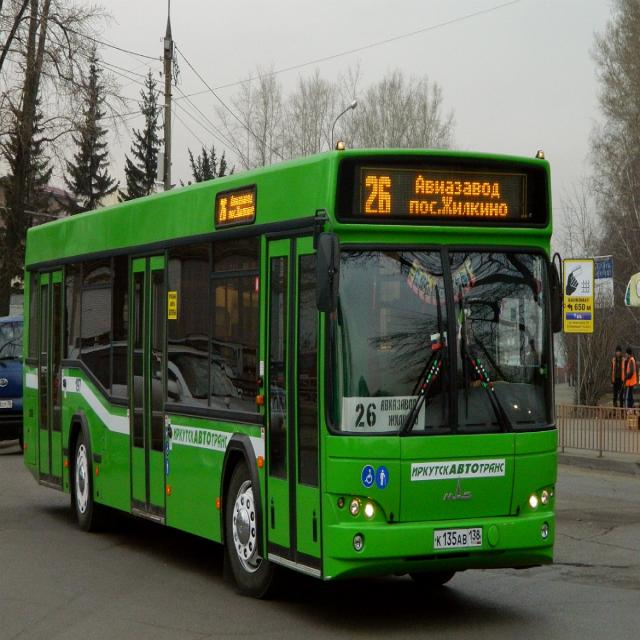number-of-bus: (364, 170, 395, 218), (353, 402, 378, 431)
